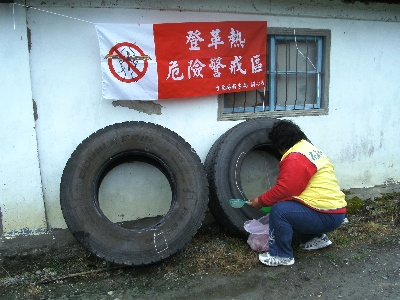plastic_bag: (246, 216, 270, 250)
tire: (58, 119, 209, 264)
